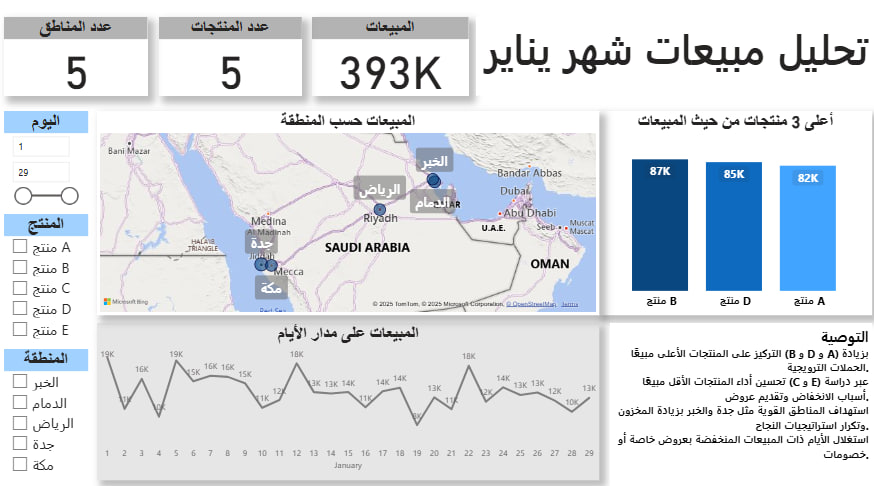

The page's visual inventory and layout, read from the dashboard file:
{"tool":"powerbi","page":{"name":"Page 1","canvas":[1280,720],"ordinal":0},"visuals":[{"type":"slicer","title":"المنتج","fields":{"Values":["Sheet1.المنتج"]},"box":[8.3,316.7,121.7,191.7],"z":0},{"type":"slicer","title":"المنطقة","fields":{"Values":["Sheet1.المنطقة"]},"box":[8.3,513.3,121.7,190],"z":1000},{"type":"clusteredColumnChart","title":"أعلى 3 منتجات من حيث المبيعات","fields":{"Category":["Sheet1.المنتج"],"Y":["Sum(Sheet1.الإيرادات)"]},"box":[871,168.1,395.7,295.7],"z":2000},{"type":"lineChart","title":"المبيعات على مدار الأيام","fields":{"Y":["Sum(Sheet1.الإيرادات)"],"Category":["Sheet1.التاريخ.Variation.Date Hierarchy.Month","Sheet1.التاريخ.Variation.Date Hierarchy.Day"]},"box":[143.3,475,728.3,228.3],"z":3000},{"type":"map","title":"المبيعات حسب المنطقة","fields":{"Size":["Sum(Sheet1.الإيرادات)"],"Category":["Sheet1.المنطقة"]},"box":[143.5,168.1,727.5,295.7],"z":4000},{"type":"slicer","title":"اليوم","fields":{"Values":["Sheet1.التاريخ.Variation.Date Hierarchy.Day"]},"box":[8.3,168.3,121.7,141.7],"z":5000},{"type":"card","title":"عدد المناطق","fields":{"Values":["Count(Sheet1.المنطقة)"]},"box":[8.3,31.7,208.3,115],"z":6000},{"type":"card","title":"المبيعات","fields":{"Values":["Sum(Sheet1.الإيرادات)"]},"box":[455,31.7,226.7,115],"z":7000},{"type":"textbox","box":[692.8,31.9,573.9,114.5],"z":8000},{"type":"textbox","box":[886.7,475,380,245],"z":10000},{"type":"card","title":"عدد المنتجات","fields":{"Values":["Count(Sheet1.المنتج)"]},"box":[233.3,31.7,206.7,115],"z":11000}]}

Visuals, with their boxes in screenshot pixels (x1, y1, x2, y2), scaled from the page's 1280x720 canvas onto the 874x486 screenshot:
"المنتج" slicer: (left=6, top=214, right=89, bottom=343)
"المنطقة" slicer: (left=6, top=346, right=89, bottom=475)
"أعلى 3 منتجات من حيث المبيعات" clusteredColumnChart: (left=595, top=113, right=865, bottom=313)
"المبيعات على مدار الأيام" lineChart: (left=98, top=321, right=595, bottom=475)
"المبيعات حسب المنطقة" map: (left=98, top=113, right=595, bottom=313)
"اليوم" slicer: (left=6, top=114, right=89, bottom=209)
"عدد المناطق" card: (left=6, top=21, right=148, bottom=99)
"المبيعات" card: (left=311, top=21, right=465, bottom=99)
textbox: (left=473, top=22, right=865, bottom=99)
textbox: (left=605, top=321, right=865, bottom=485)
"عدد المنتجات" card: (left=159, top=21, right=300, bottom=99)
